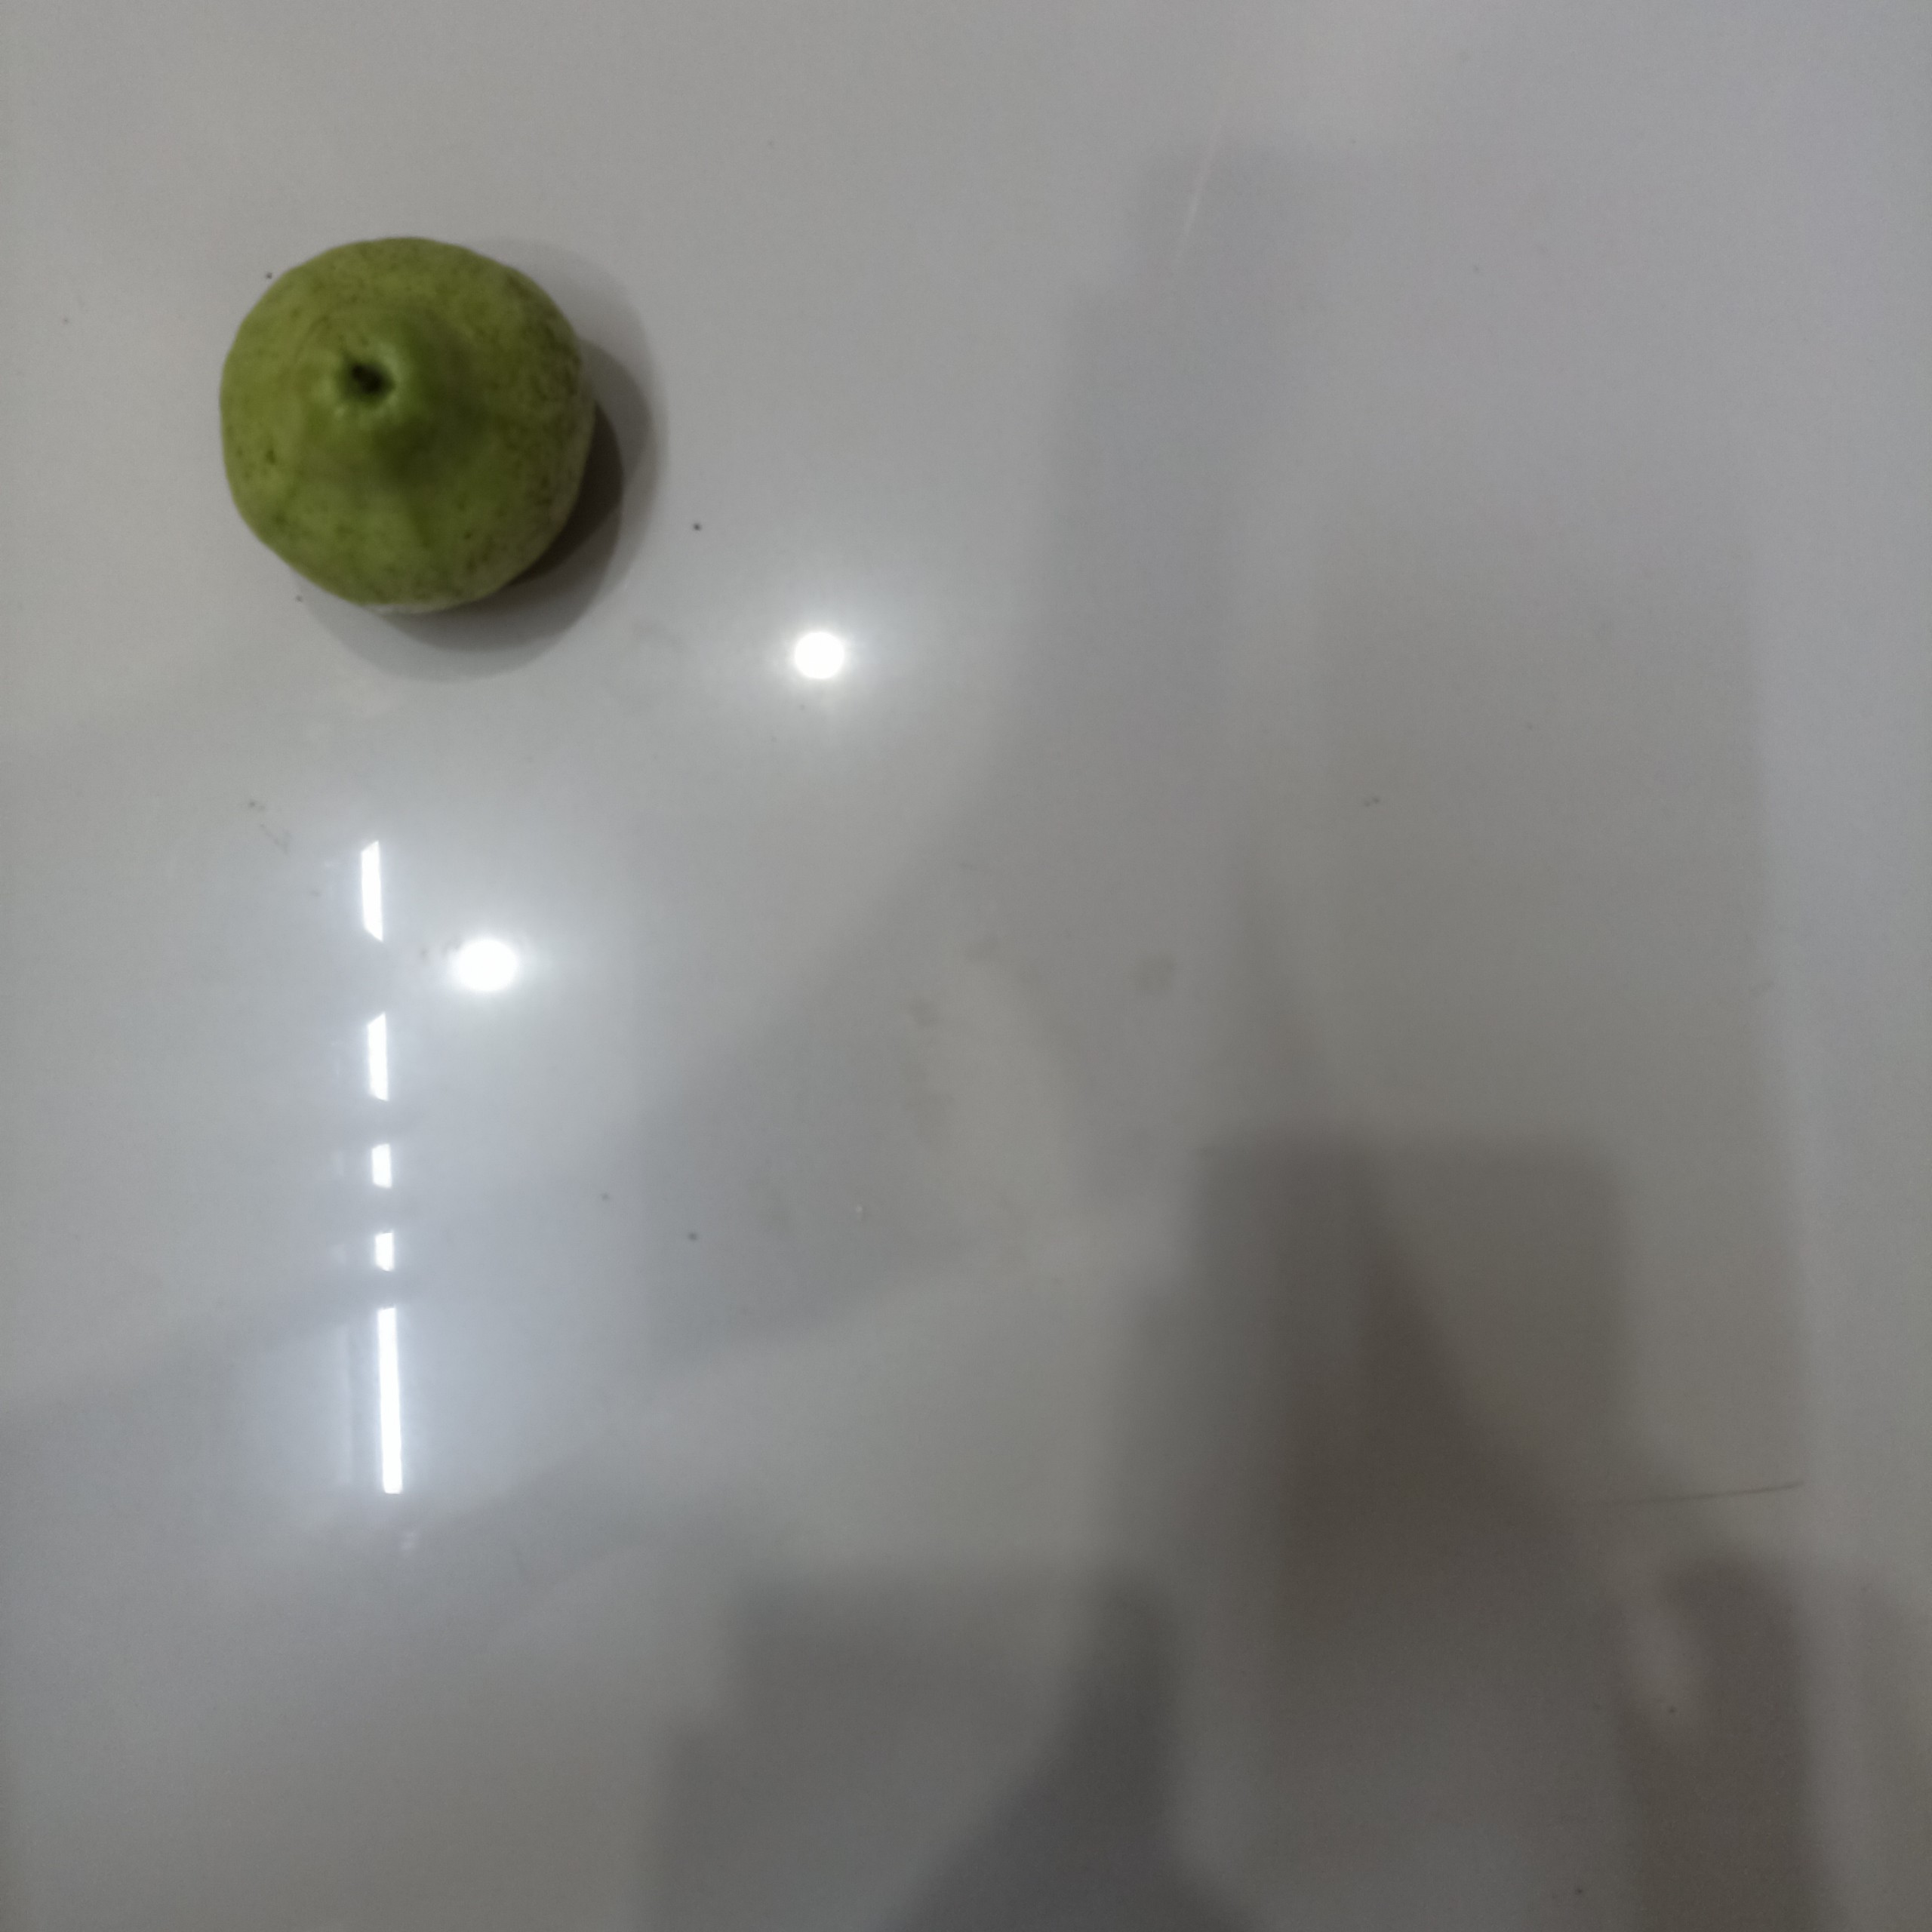Oi: (218, 237, 600, 617)
